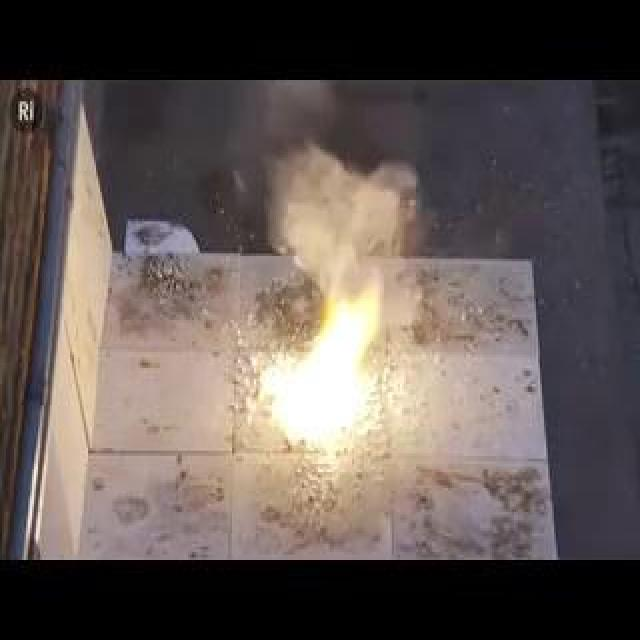Fire: (124, 270, 322, 322)
